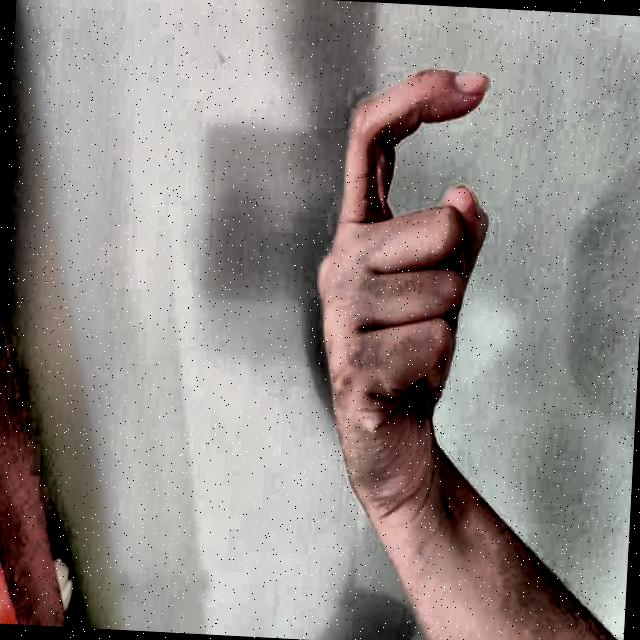E: (280, 24, 537, 522)
